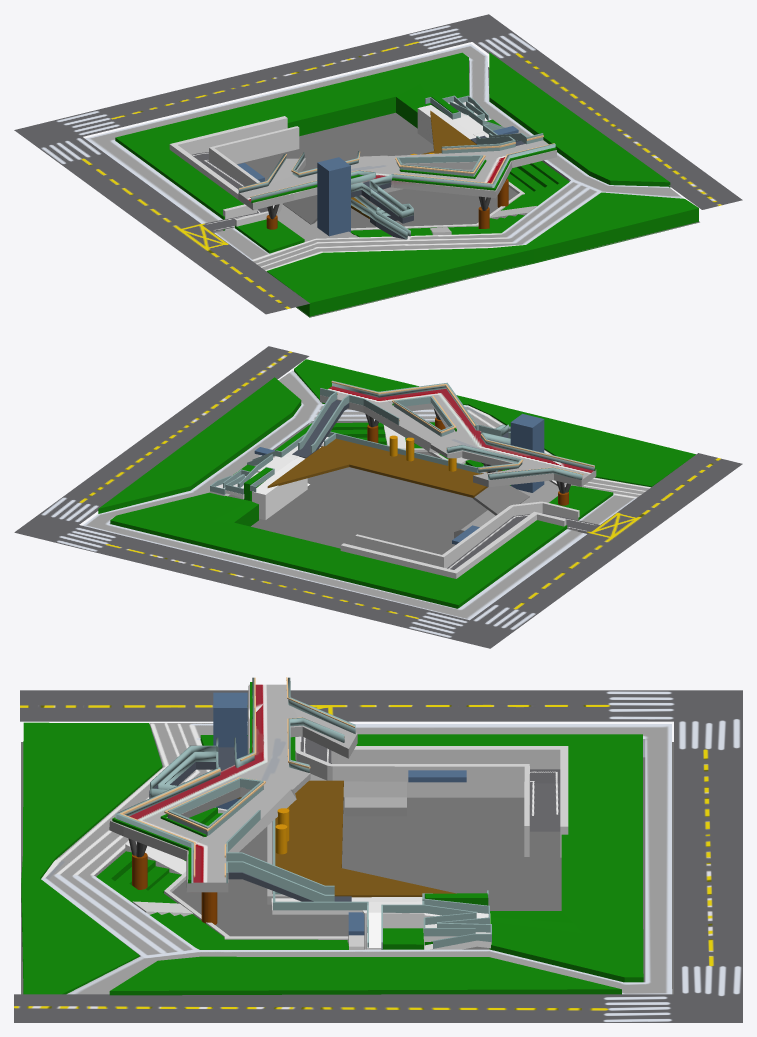
File: sz_outside.glb
3 renders of one model, top to bottom at view 1: azimuth 30°, elevation 25°; view 2: azimuth 150°, elevation 25°; view 3: azimuth 270°, elevation 25°, orthographic. The views are drawn at different scales.
Parts seen in each view (by area): view 1: Road, LiftBaseGreenbelt, Sidewalk_Runner, GreenBeltNW, PlaneBase, Greenbelt_east, BridgeFence, Bridge, GarageFence, GlassElevator, GreenBelt_UnderBridge, EastPlatform (+12 smaller); view 2: Road, GreenBeltNW, PlaneBase, Sidewalk_Runner, LiftBaseGreenbelt, Greenbelt_east, Bridge, BridgeFence, GarageFence, SecondFloorOutdoor, SecondFloorFence, EastPlatform (+7 smaller); view 3: Road, PlaneBase, GreenBeltNW, Sidewalk_Runner, LiftBaseGreenbelt, Greenbelt_east, Bridge, GarageFence, BridgeFence, SecondFloorOutdoor, SecondFloorFence, EastPlatform (+15 smaller).
Part boxes in pixels (x1,y1,x2,y2): Road: (14, 14, 742, 314); LiftBaseGreenbelt: (266, 192, 698, 317); Sidewalk_Runner: (85, 44, 683, 271); GreenBeltNW: (115, 52, 469, 230); PlaneBase: (237, 67, 699, 317); Greenbelt_east: (486, 52, 670, 187); BridgeFence: (238, 133, 555, 239); Bridge: (238, 140, 556, 210); GarageFence: (169, 116, 299, 230); GlassElevator: (317, 157, 350, 236); GreenBelt_UnderBridge: (235, 219, 304, 253); EastPlatform: (417, 105, 488, 144); Road: (14, 346, 742, 648); GreenBeltNW: (110, 467, 567, 608); PlaneBase: (228, 452, 487, 554); Sidewalk_Runner: (82, 370, 650, 620); LiftBaseGreenbelt: (294, 359, 695, 487); Greenbelt_east: (98, 377, 301, 513); Bridge: (320, 386, 596, 487); BridgeFence: (298, 380, 594, 479); GarageFence: (340, 501, 579, 578); SecondFloorOutdoor: (267, 438, 502, 497); SecondFloorFence: (210, 431, 480, 494); EastPlatform: (252, 437, 328, 520); Road: (14, 690, 742, 1022); PlaneBase: (21, 742, 673, 994); GreenBeltNW: (356, 734, 643, 982); Sidewalk_Runner: (41, 723, 672, 994); LiftBaseGreenbelt: (21, 722, 162, 994); Greenbelt_east: (109, 928, 621, 995); Bridge: (109, 684, 357, 892); GarageFence: (295, 736, 568, 857); BridgeFence: (115, 677, 355, 901); SecondFloorOutdoor: (237, 780, 456, 897); SecondFloorFence: (273, 819, 491, 949); EastPlatform: (271, 897, 424, 949).
Bounding box in the file's own units: 100 × 17.46 × 92.86.
Materials: 15 (3 with a texture image).
